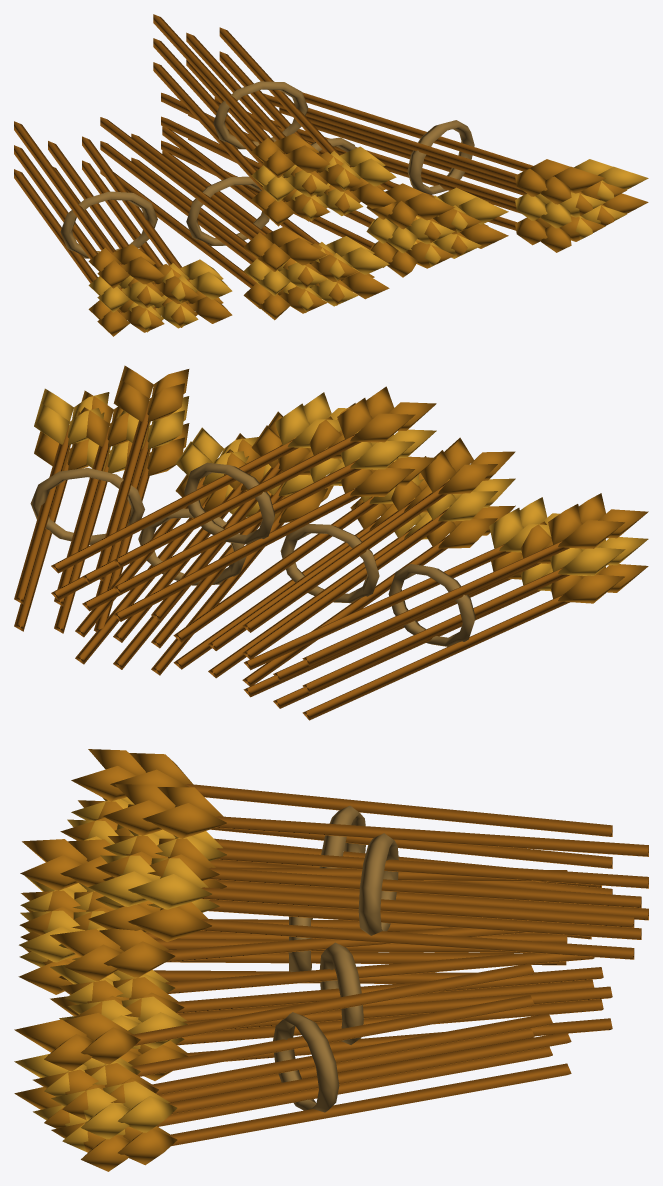
Rendered from pile-wheat-5.obj.
The picture shows the model from 3 angles, top to bottom: view 1: azimuth 30°, elevation 25°; view 2: azimuth 150°, elevation 25°; view 3: azimuth 270°, elevation 25°; orthographic projection. The views are drawn at different scales.
Visible parts, largest first — view 1: pile-wheat-5; view 2: pile-wheat-5; view 3: pile-wheat-5.
Boxes of the visible parts, <box> form: pile-wheat-5: <box>14,14,648,336</box>; pile-wheat-5: <box>14,365,648,720</box>; pile-wheat-5: <box>14,749,648,1171</box>.
Size of the model in its own units: 0.7706 by 0.1898 by 0.5958.
1 material, 1 textured.
